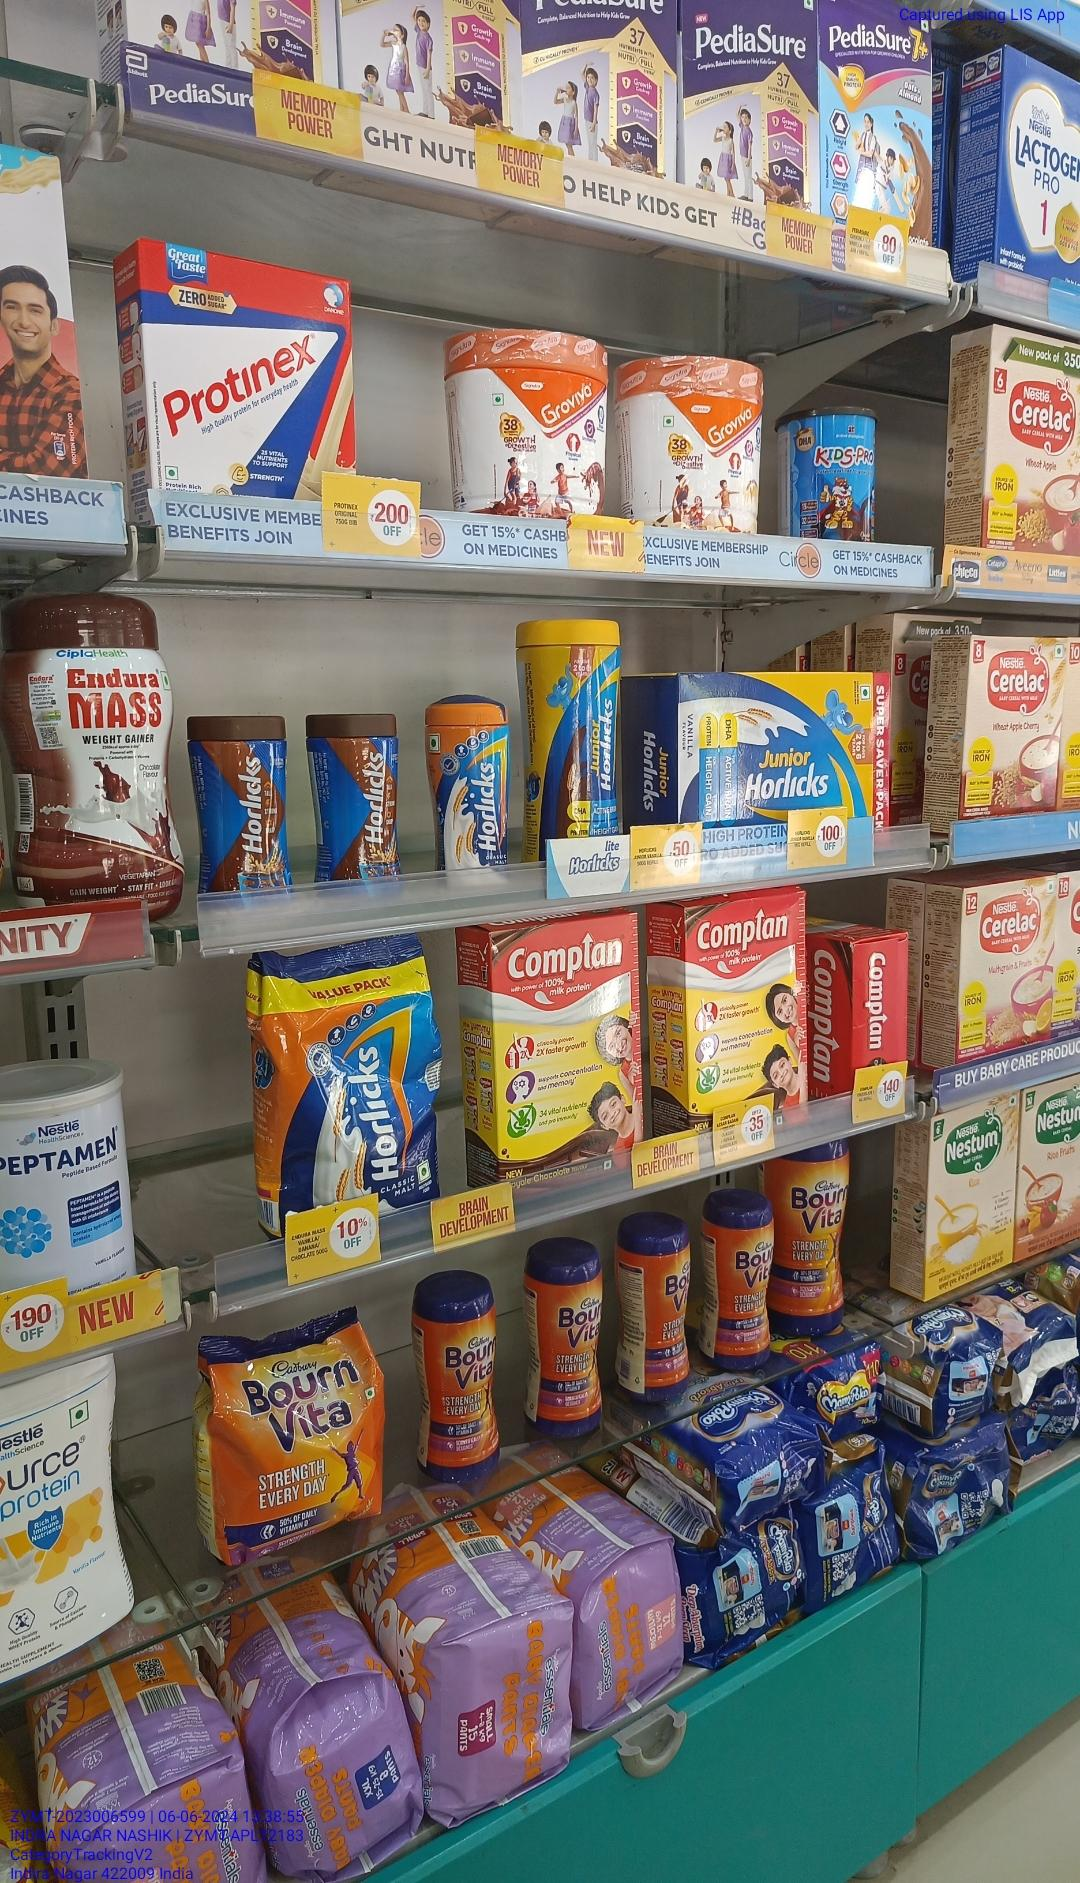BOURN_VITA_200_G_JAR: (427, 1287, 503, 1487), (535, 1261, 607, 1439), (635, 1226, 693, 1407), (717, 1199, 776, 1372)
HORLICKS_JUNIOR_VANILLA_500_GM_JAR: (526, 617, 627, 838)
HORLICK_CHOCOLATE_200_G_JAR: (194, 711, 292, 905), (317, 709, 409, 904)
HORLICK_CLASSIC_MALT_200_G_JAR: (432, 696, 515, 882)
PEDIASURE_7_PLUS_CHOCOLATE_400_G_PACK: (823, 0, 935, 238)
PEDIASURE_CHOCOLATE_500_G_PACK: (682, 0, 817, 204), (523, 1, 675, 168)
